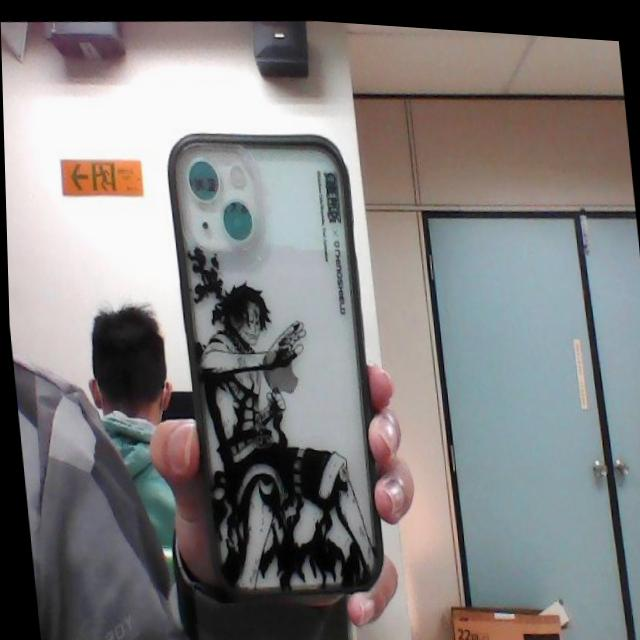Smartphone: (163, 121, 386, 600)
